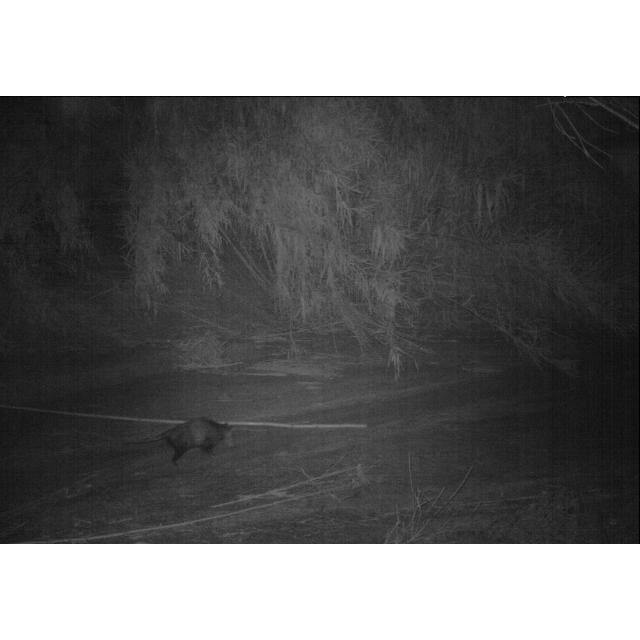animals: (122, 416, 234, 464)
